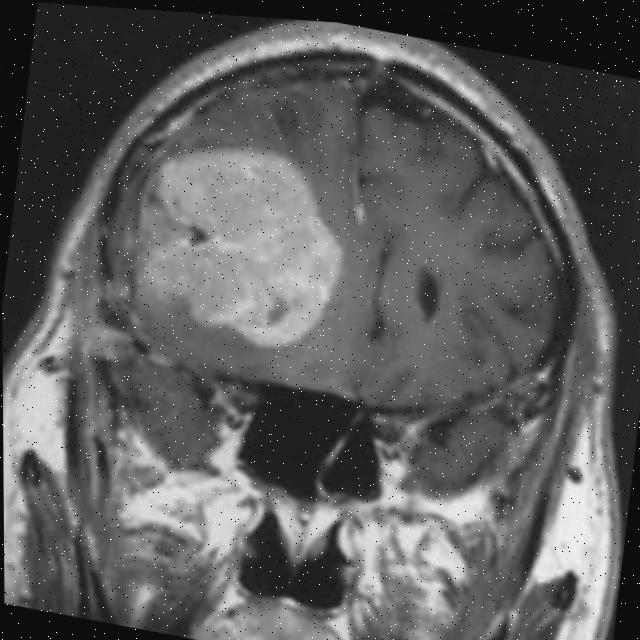Meningioma: (113, 124, 357, 363)
